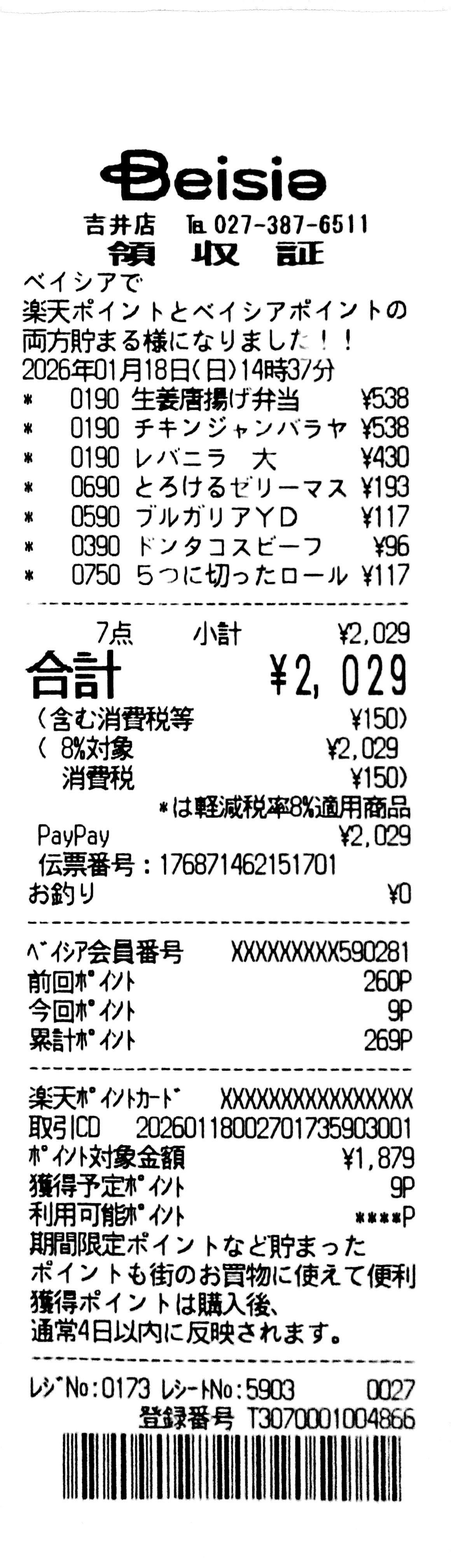Date: (21, 357, 190, 382)
Pay: (25, 649, 406, 700)
Shopname: (101, 149, 327, 201)
Telnum: (214, 213, 368, 236)
